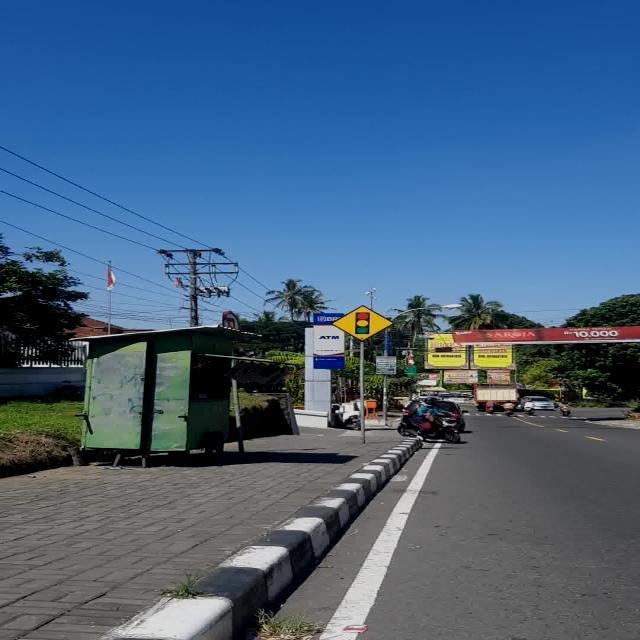Lampu Lalu Lintas: (332, 306, 394, 342)
